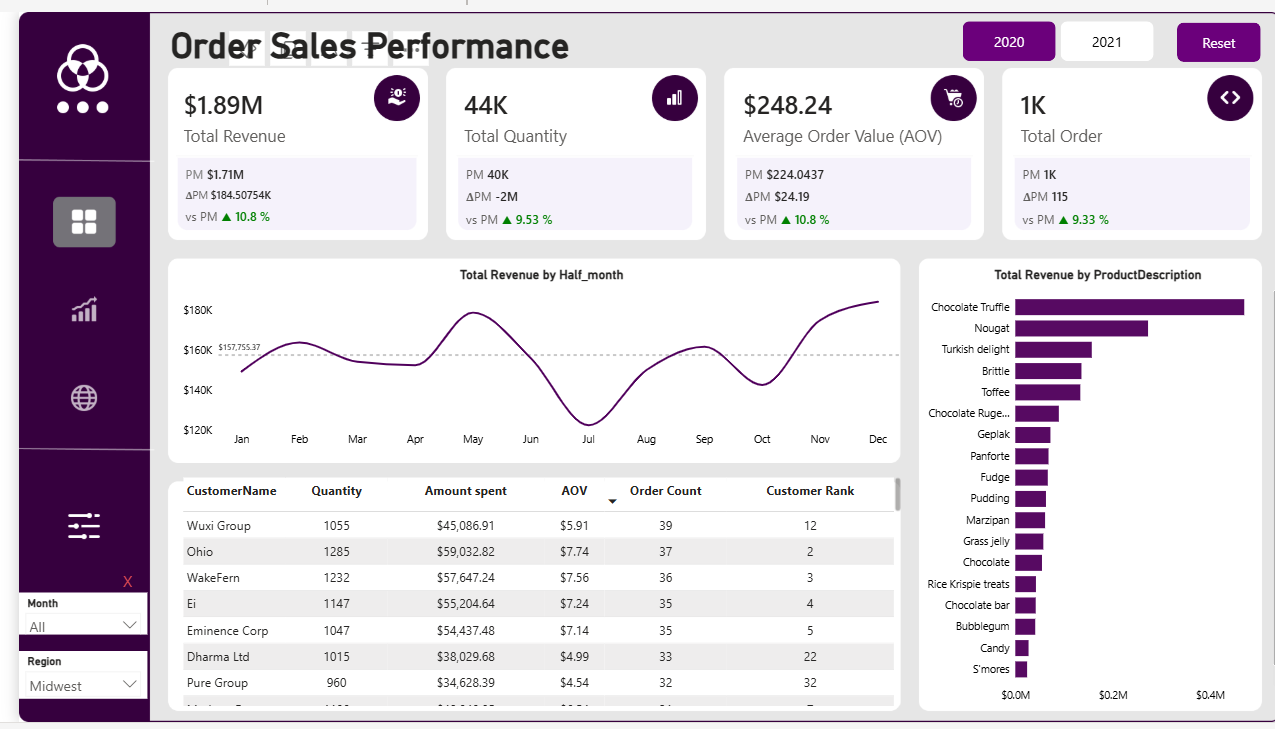

The dashboard page shown, as its layout file describes it:
{"tool":"powerbi","page":{"name":"Overview","canvas":[1920,1080],"ordinal":0},"visuals":[{"type":"slicer","fields":{"Values":["Date.Month"]},"box":[0,882.5,195,63.8],"z":0,"group":"g1"},{"type":"cardVisual","fields":{"Data":["Calculated Measures.Total Revenue"]},"box":[221.9,83.5,403.2,267.2],"z":0},{"type":"slicer","fields":{"Values":["Region.Region"]},"box":[0,970.5,195,72.6],"z":1000,"group":"g1"},{"type":"actionButton","title":"X close","box":[111.1,821.2,107.1,87.3],"z":1000},{"type":"cardVisual","fields":{"Data":["Calculated Measures.Total Quantity"]},"box":[649,83.5,396.1,267.2],"z":2000},{"type":"group","id":"g1","title":"Group 1","box":[0,882.5,195,157.5],"z":3000},{"type":"lineChart","fields":{"Category":["Date.Half_month"],"Y":["Calculated Measures.Total Revenue"]},"box":[243.4,388.9,1102.3,283.9],"z":4000},{"type":"clusteredBarChart","fields":{"Y":["Calculated Measures.Total Revenue"],"Category":["Order_DIM.ProductDescription"]},"box":[1362.4,388.9,558.3,672.8],"z":5000},{"type":"tableEx","fields":{"Values":["Customers_DIM.CustomerName","Calculated Measures.Total Quantity","Calculated Measures.Total Revenue","Calculated Measures.Average Order Value (AOV)","Calculated Measures.Order Count","Calculated Measures.Customer Rank"]},"box":[243.4,703.8,1102.3,357.9],"z":6000},{"type":"cardVisual","fields":{"Data":["Calculated Measures.Average Order Value (AOV)"]},"box":[1071.3,83.5,396.1,267.2],"z":7000},{"type":"cardVisual","fields":{"Data":["Calculated Measures.Order Count"]},"box":[1493.6,83.5,398.4,267.2],"z":8000},{"type":"advancedSlicerVisual","fields":{"Values":["Date.Year"]},"box":[1430,10,300,70],"z":9000},{"type":"actionButton","title":"Reset","box":[1762.5,15,127.5,60],"z":10000},{"type":"actionButton","box":[33.5,527.2,149.3,115.8],"z":11000},{"type":"actionButton","box":[48.8,728.4,100.6,91.4],"z":12000},{"type":"actionButton","box":[26.4,399.6,155.1,90.7],"z":13000},{"type":"actionButton","box":[35,257.4,150.3,105],"z":14000},{"type":"textbox","title":"Order Sales Performance","box":[225.5,0,704,91.4],"z":15000}]}

Visuals, with their boxes on the page's 1920x1080 design canvas (x1, y1, x2, y2). These are canvas units, not pixel positions in the 1275x729 screenshot, which may show the page scaled, cropped or inside an application window:
slicer - Date.Month: bbox=(0, 882, 195, 946)
cardVisual - Calculated Measures.Total Revenue: bbox=(222, 84, 625, 351)
slicer - Region.Region: bbox=(0, 970, 195, 1043)
"X close" actionButton: bbox=(111, 821, 218, 908)
cardVisual - Calculated Measures.Total Quantity: bbox=(649, 84, 1045, 351)
"Group 1" group: bbox=(0, 882, 195, 1040)
lineChart - Date.Half_month x Calculated Measures.Total Revenue: bbox=(243, 389, 1346, 673)
clusteredBarChart - Calculated Measures.Total Revenue x Order_DIM.ProductDescription: bbox=(1362, 389, 1921, 1062)
tableEx - Customers_DIM.CustomerName x Calculated Measures.Total Quantity: bbox=(243, 704, 1346, 1062)
cardVisual - Calculated Measures.Average Order Value (AOV): bbox=(1071, 84, 1467, 351)
cardVisual - Calculated Measures.Order Count: bbox=(1494, 84, 1892, 351)
advancedSlicerVisual - Date.Year: bbox=(1430, 10, 1730, 80)
"Reset" actionButton: bbox=(1762, 15, 1890, 75)
actionButton: bbox=(34, 527, 183, 643)
actionButton: bbox=(49, 728, 149, 820)
actionButton: bbox=(26, 400, 182, 490)
actionButton: bbox=(35, 257, 185, 362)
"Order Sales Performance" textbox: bbox=(226, 0, 930, 91)
